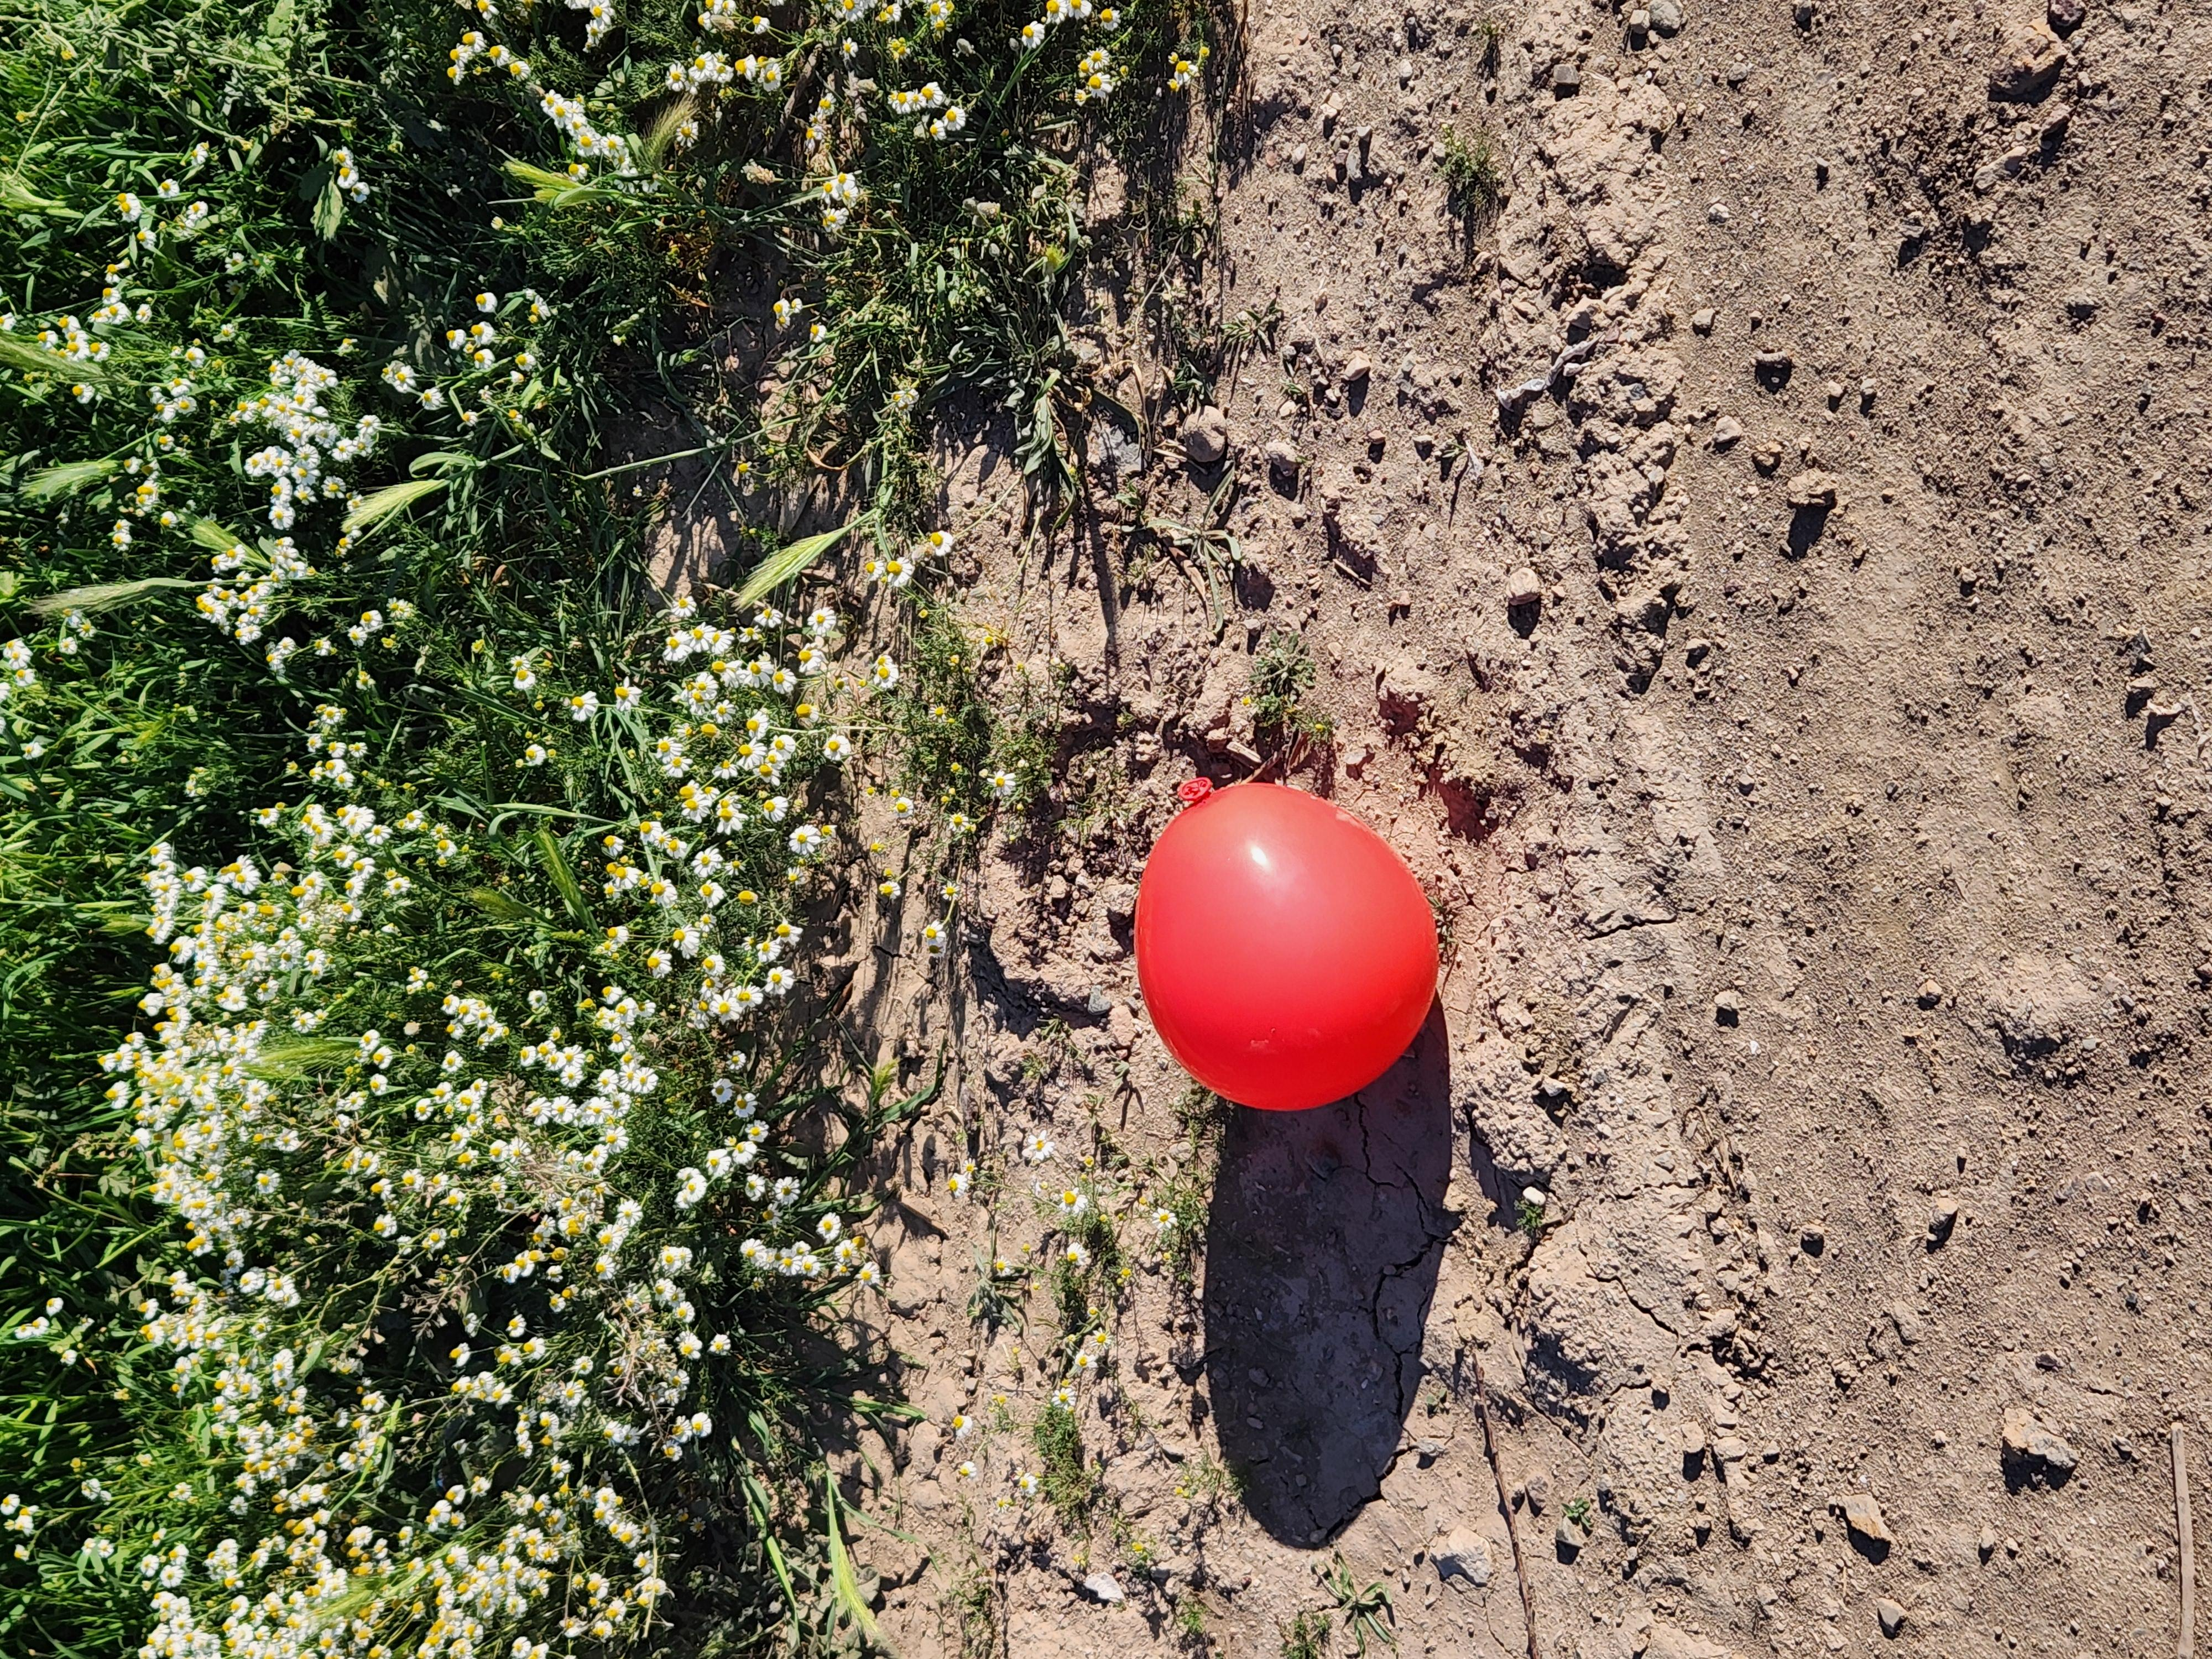red: (709, 838, 1193, 1093)
